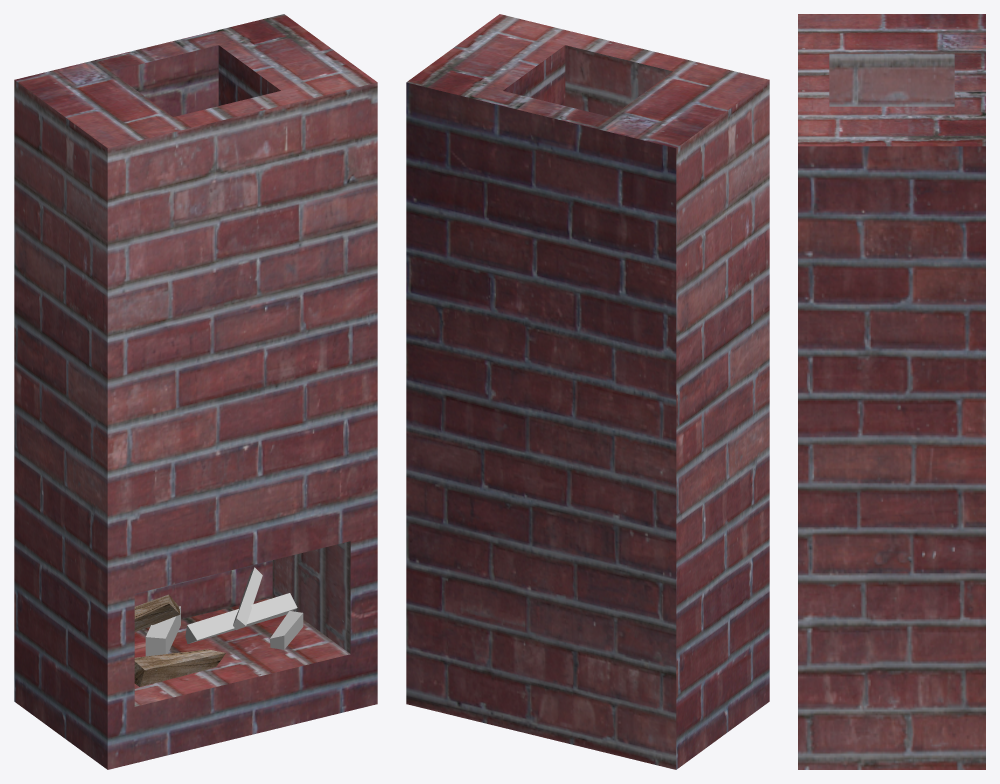
Rendered from Fireplace with Logs.FBX.
3 renders of one model, left to right at view 1: azimuth 30°, elevation 25°; view 2: azimuth 150°, elevation 25°; view 3: azimuth 270°, elevation 25°, orthographic.
Parts seen in each view (by area): view 1: pCube24, Box005, Box002, Box001, Box003, Box004, Box006; view 2: pCube24; view 3: pCube24.
Part boxes in pixels (x1,y1,x2,y2): pCube24: [14, 14, 377, 769]; Box005: [134, 649, 225, 686]; Box002: [185, 593, 297, 643]; Box001: [134, 594, 180, 631]; Box003: [145, 606, 180, 656]; Box004: [270, 611, 303, 649]; Box006: [233, 567, 262, 629]; pCube24: [406, 14, 769, 769]; pCube24: [798, 14, 985, 769].
Size of the model in its own units: 98.43 by 217 by 59.06.
